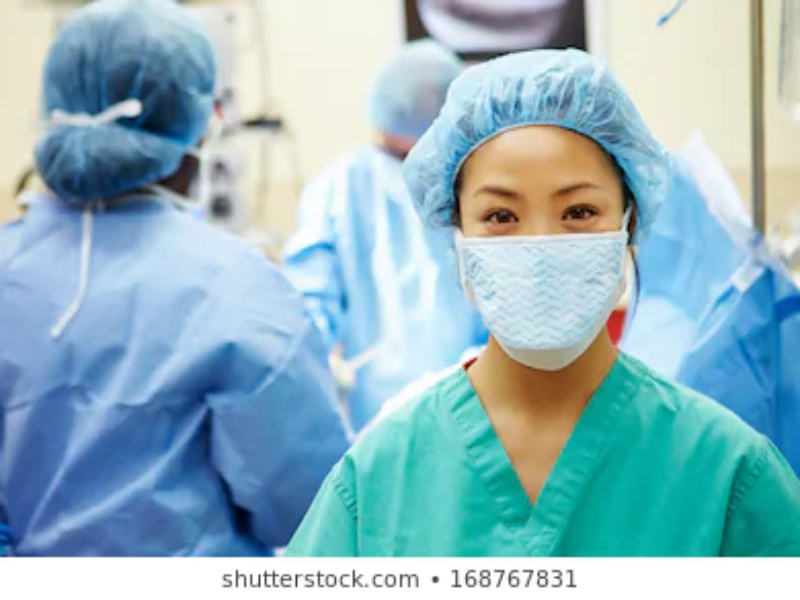ManaoArotava: (421, 67, 667, 410)
